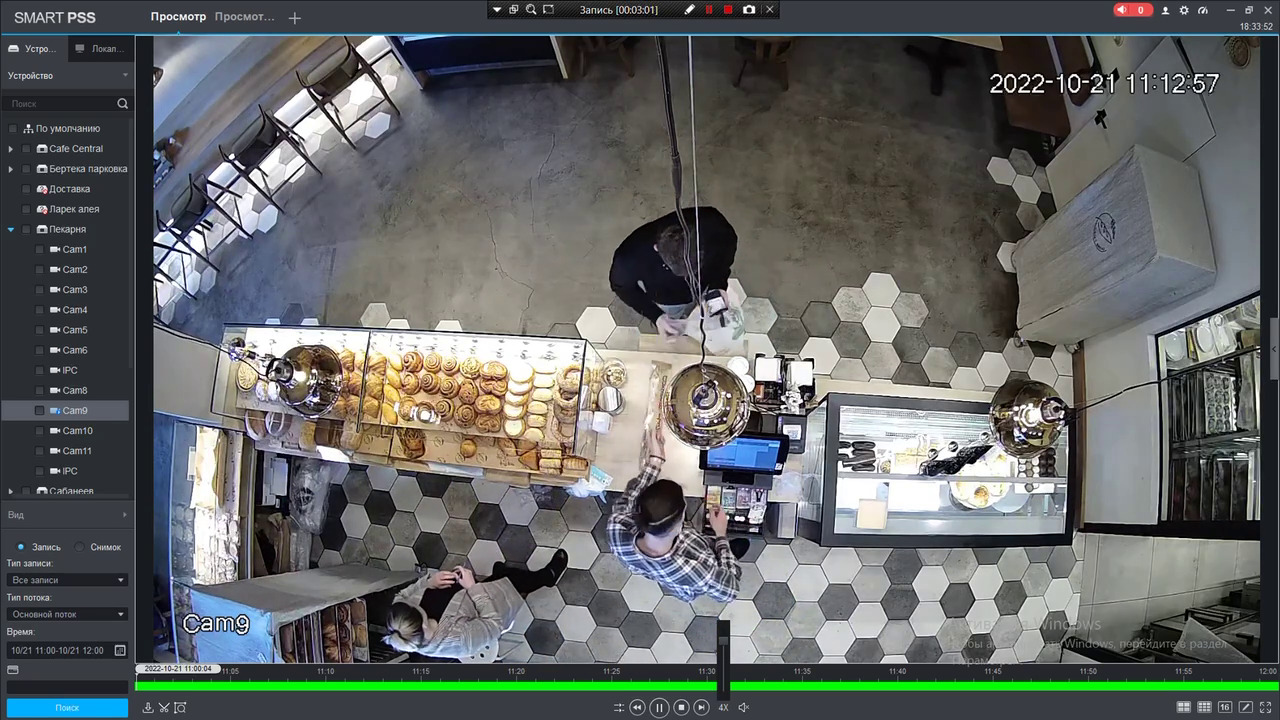openedcash: (695, 427, 784, 552)
pack: (637, 357, 667, 464)
person: (586, 211, 762, 340), (400, 546, 585, 657), (606, 479, 752, 605)
